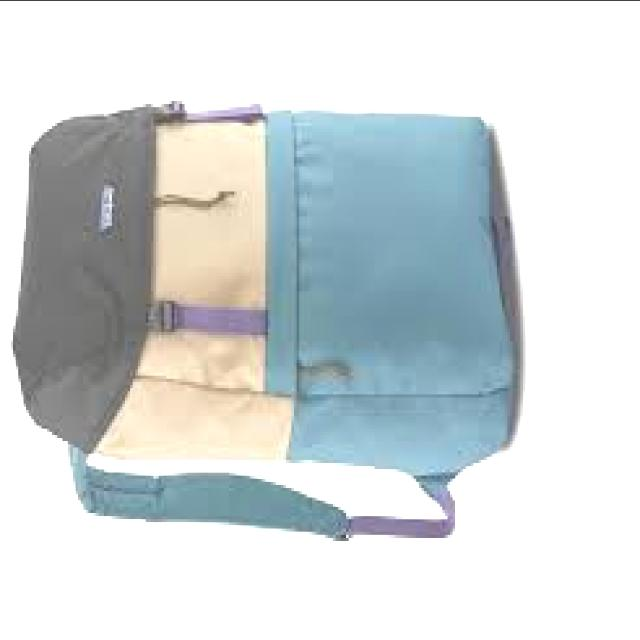backpack: (9, 101, 519, 545)
